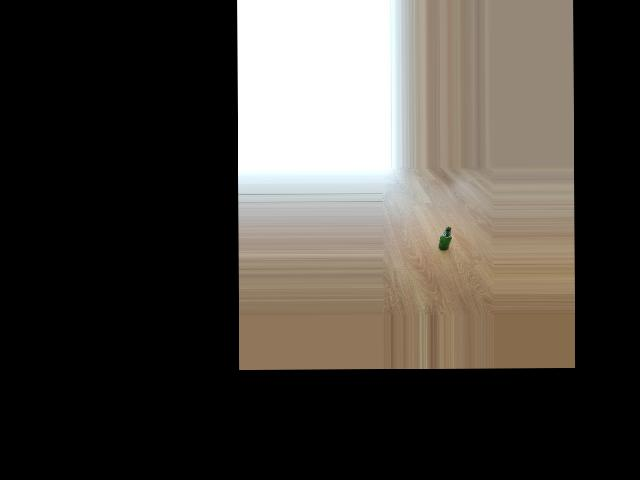beer: (437, 226, 451, 250)
